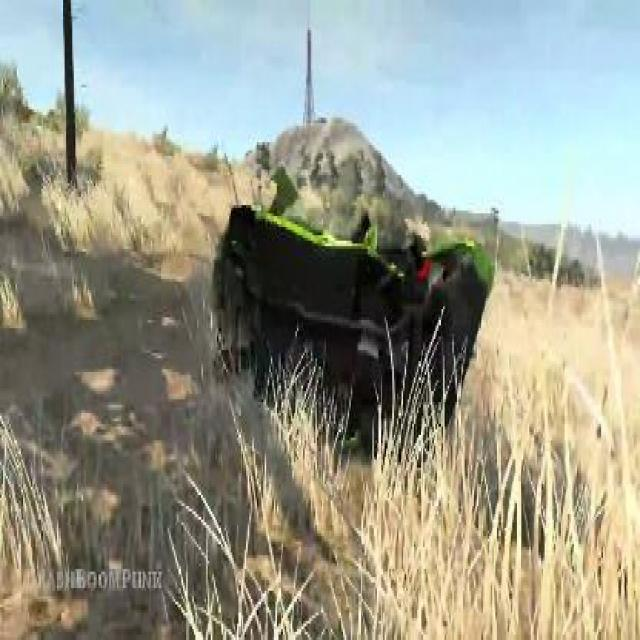accident: (207, 186, 496, 443)
